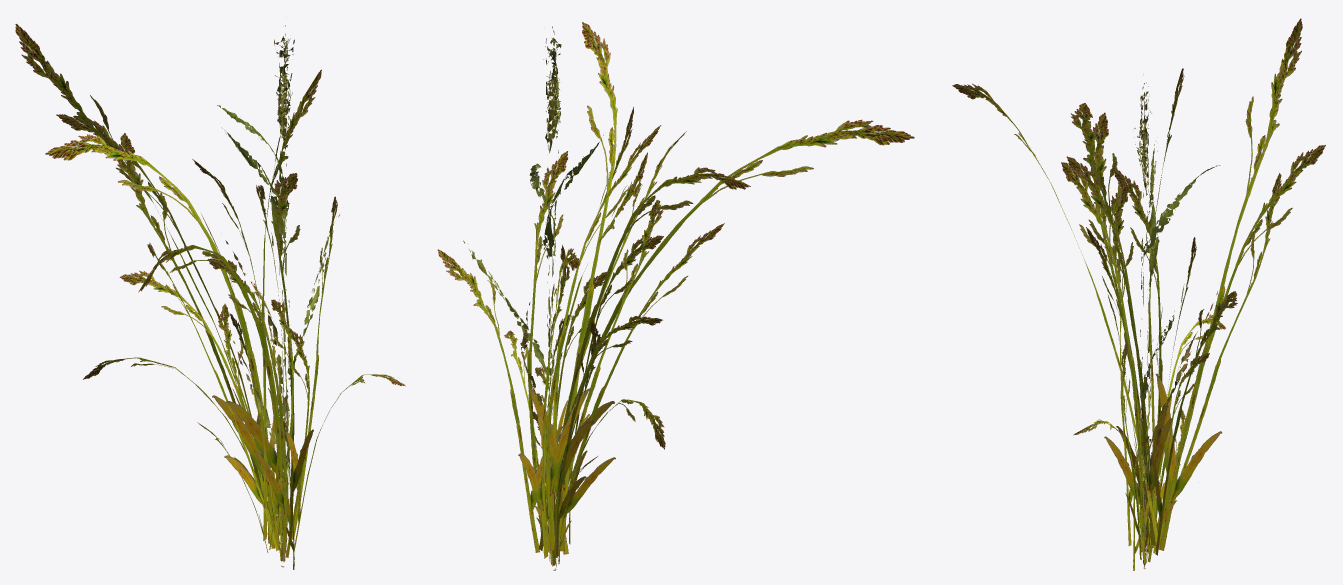
The model's file is Weizen.glb.
The picture shows the model from 3 angles, left to right: view 1: azimuth 30°, elevation 25°; view 2: azimuth 150°, elevation 25°; view 3: azimuth 270°, elevation 25°; orthographic projection. The views are drawn at different scales.
Visible parts, largest first — view 1: Bueschel, Halm2, Halm1; view 2: Bueschel, Halm2, Halm1; view 3: Bueschel, Halm2, Halm1.
Part boxes in pixels (left/top/right/bottom): Bueschel: left=15, top=24, right=405, bottom=569; Halm2: left=221, top=25, right=294, bottom=566; Halm1: left=217, top=35, right=339, bottom=567; Bueschel: left=437, top=22, right=914, bottom=565; Halm2: left=520, top=26, right=603, bottom=570; Halm1: left=463, top=37, right=591, bottom=570; Bueschel: left=952, top=18, right=1325, bottom=570; Halm2: left=1139, top=82, right=1217, bottom=569; Halm1: left=1134, top=91, right=1220, bottom=567.
Bounding box in the file's own units: 0.68 × 1.05 × 0.7241.
Materials: 3 (3 with a texture image).
